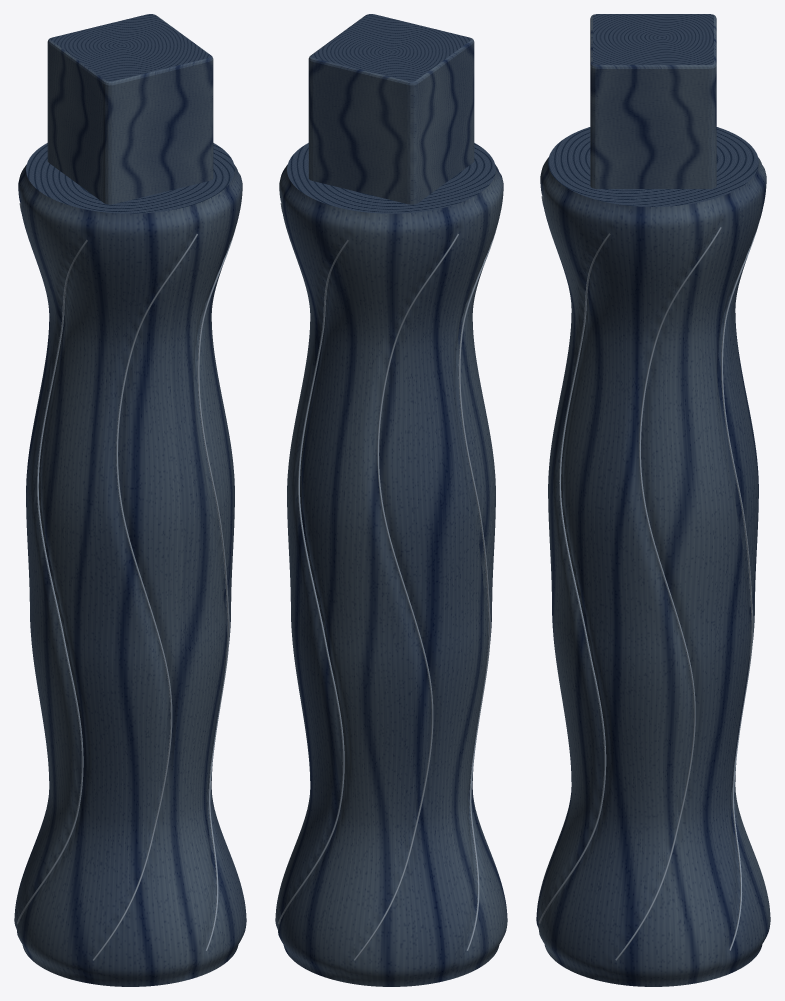
The model's file is magic_handle.glb.
3 renders of one model, left to right at view 1: azimuth 30°, elevation 25°; view 2: azimuth 150°, elevation 25°; view 3: azimuth 270°, elevation 25°, orthographic.
Visible parts, largest first — view 1: magic worked longitudinal grain, magic endgrain on both sawn ends, Pale exposed magic wood on carved leaf edges; view 2: magic worked longitudinal grain, magic endgrain on both sawn ends, Pale exposed magic wood on carved leaf edges; view 3: magic worked longitudinal grain, magic endgrain on both sawn ends, Pale exposed magic wood on carved leaf edges.
Part boxes in pixels (x1,y1,x2,y2): magic worked longitudinal grain: (14, 14, 246, 986); magic endgrain on both sawn ends: (26, 14, 234, 213); Pale exposed magic wood on carved leaf edges: (16, 203, 235, 960); magic worked longitudinal grain: (275, 14, 507, 986); magic endgrain on both sawn ends: (287, 14, 495, 213); Pale exposed magic wood on carved leaf edges: (277, 203, 497, 960); magic worked longitudinal grain: (536, 14, 770, 986); magic endgrain on both sawn ends: (548, 14, 758, 206); Pale exposed magic wood on carved leaf edges: (538, 196, 759, 960).
Bounding box in the file's own units: 0.06 × 0.2547 × 0.06.
Materials: 3 (2 with a texture image).
